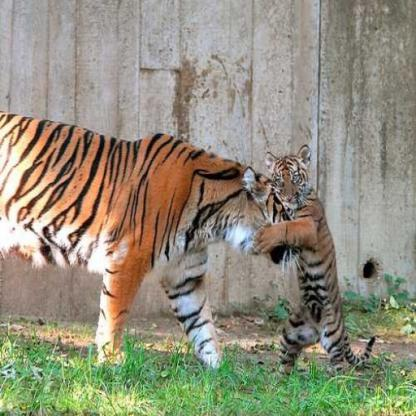Tiger: (0, 67, 265, 361), (257, 129, 403, 364)
